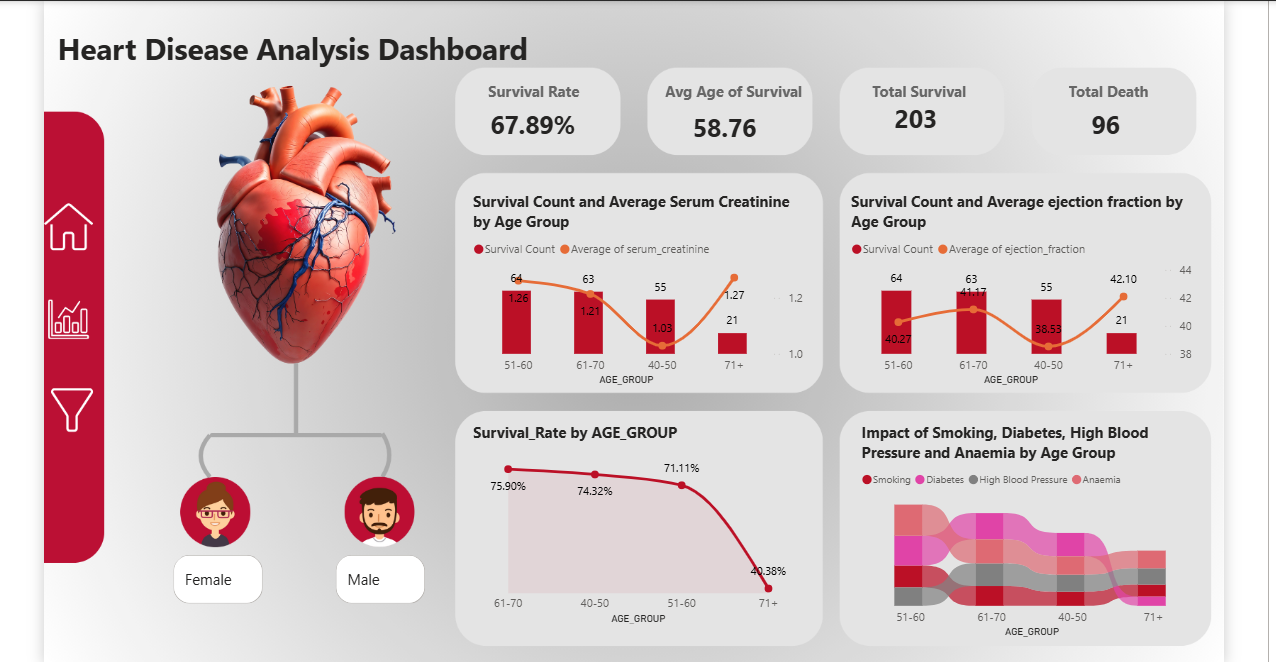

This screenshot's page, from the dashboard's own definition file:
{"tool":"powerbi","page":{"name":"Heart_Disease_Dashboard","canvas":[1280,720],"ordinal":0},"visuals":[{"type":"textbox","box":[9.4,24.6,578.3,56.7],"z":0},{"type":"card","fields":{"Values":["heart_Disease_clinical_records_.Survival_Rate"]},"box":[401.8,61.8,255.4,144.8],"z":1000},{"type":"card","fields":{"Values":["heart_Disease_clinical_records_.Averae_Age_Survival"]},"box":[621.3,68.3,232.6,139.9],"z":2000},{"type":"card","fields":{"Values":["heart_Disease_clinical_records_.Total_Surviour"]},"box":[818.2,53.7,253.7,149.6],"z":3000},{"type":"card","fields":{"Values":["heart_Disease_clinical_records_.Total_Death_Rate"]},"box":[1041,69.9,219.6,128.5],"z":4000},{"type":"textbox","box":[476.6,81.3,144.8,43.9],"z":5000},{"type":"textbox","box":[668.5,81.3,201.7,43.9],"z":6000},{"type":"textbox","box":[893,81.3,148,53.7],"z":7000},{"type":"textbox","box":[1106.5,81.2,154.1,44.7],"z":8000},{"type":"lineClusteredColumnComboChart","title":"Survival Count and Average Serum Creatinine by Age Group","fields":{"Category":["heart_Disease_clinical_records_.AGE_GROUP"],"Y":["CountNonNull(heart_Disease_clinical_records_.DEATH_EVENT)"],"Y2":["Avg(heart_Disease_clinical_records_.serum_creatinine)"]},"box":[460.3,206.6,367.6,214.7],"z":9000},{"type":"lineClusteredColumnComboChart","title":"Survival Count and Average ejection fraction by Age Group","fields":{"Category":["heart_Disease_clinical_records_.AGE_GROUP"],"Y":["CountNonNull(heart_Disease_clinical_records_.DEATH_EVENT)"],"Y2":["Avg(heart_Disease_clinical_records_.ejection_fraction)"]},"box":[870.2,206.6,379,214.7],"z":10000},{"type":"lineChart","fields":{"Category":["heart_Disease_clinical_records_.AGE_GROUP"],"Y":["heart_Disease_clinical_records_.Survival_Rate"]},"box":[460.3,457.1,367.6,222.8],"z":11000},{"type":"ribbonChart","title":"Impact of Smoking, Diabetes, High Blood Pressure and Anaemia by Age Group","fields":{"Category":["heart_Disease_clinical_records_.AGE_GROUP"],"Y":["Sum(heart_Disease_clinical_records_.smoking)","Sum(heart_Disease_clinical_records_.diabetes)","Sum(heart_Disease_clinical_records_.high_blood_pressure)","Sum(heart_Disease_clinical_records_.anaemia)"]},"box":[881.6,457.1,379,237.5],"z":12000},{"type":"advancedSlicerVisual","fields":{"Values":["heart_Disease_clinical_records_.Gender"]},"box":[135,595.3,283,63.4],"z":13000}]}

Visuals, with their boxes on the page's 1280x720 design canvas (x1, y1, x2, y2). These are canvas units, not pixel positions in the 1276x662 screenshot, which may show the page scaled, cropped or inside an application window:
textbox: bbox=(9, 25, 588, 81)
card - heart_Disease_clinical_records_.Survival_Rate: bbox=(402, 62, 657, 207)
card - heart_Disease_clinical_records_.Averae_Age_Survival: bbox=(621, 68, 854, 208)
card - heart_Disease_clinical_records_.Total_Surviour: bbox=(818, 54, 1072, 203)
card - heart_Disease_clinical_records_.Total_Death_Rate: bbox=(1041, 70, 1261, 198)
textbox: bbox=(477, 81, 621, 125)
textbox: bbox=(668, 81, 870, 125)
textbox: bbox=(893, 81, 1041, 135)
textbox: bbox=(1106, 81, 1261, 126)
"Survival Count and Average Serum Creatinine by Age Group" lineClusteredColumnComboChart: bbox=(460, 207, 828, 421)
"Survival Count and Average ejection fraction by Age Group" lineClusteredColumnComboChart: bbox=(870, 207, 1249, 421)
lineChart - heart_Disease_clinical_records_.AGE_GROUP x heart_Disease_clinical_records_.Survival_Rate: bbox=(460, 457, 828, 680)
"Impact of Smoking, Diabetes, High Blood Pressure and Anaemia by Age Group" ribbonChart: bbox=(882, 457, 1261, 695)
advancedSlicerVisual - heart_Disease_clinical_records_.Gender: bbox=(135, 595, 418, 659)
